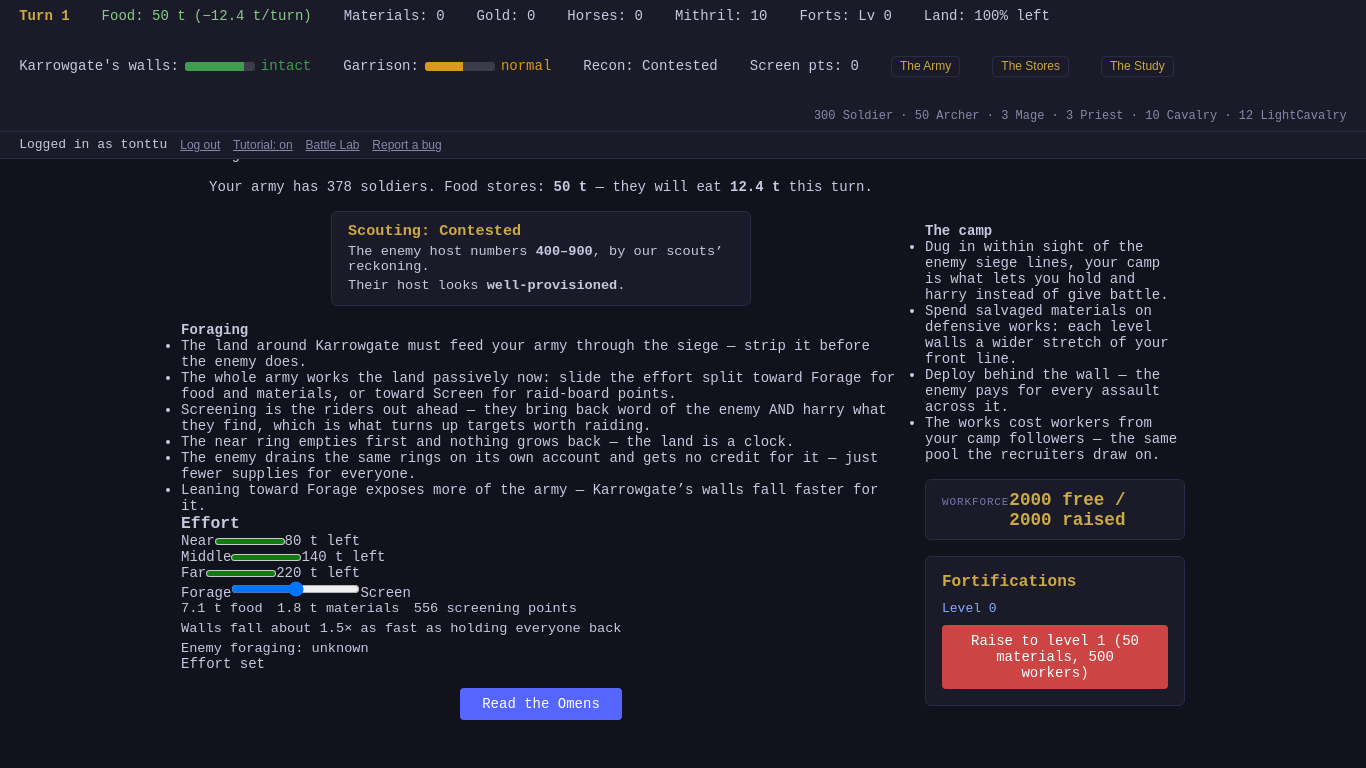
Test: the pitched-battle gate › a quiet day never offers a battle: Recruiting ends the turn outright
(page scrolled)
Click the button with test id "to-omens": (541, 704) [460,688,622,720]
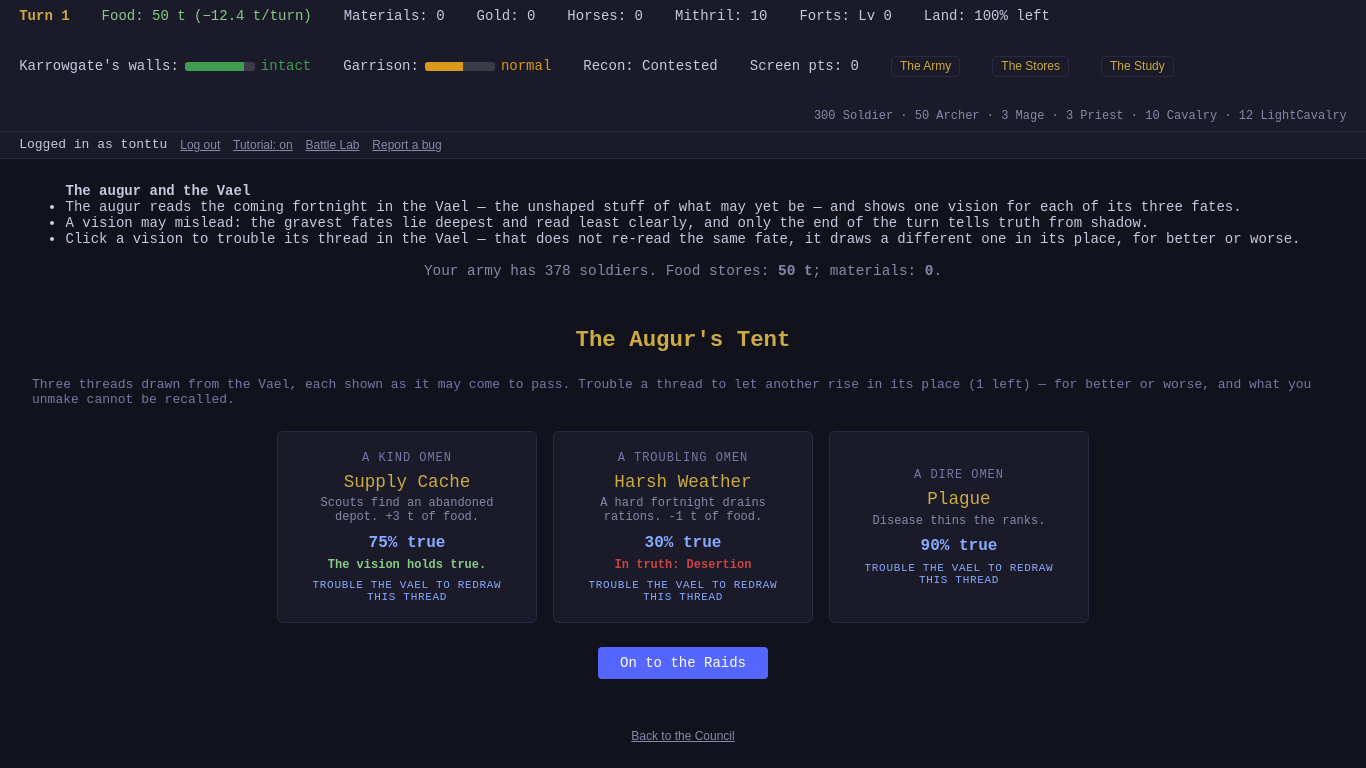
Click the button with test id "augury-continue": (683, 663) [598,647,768,679]
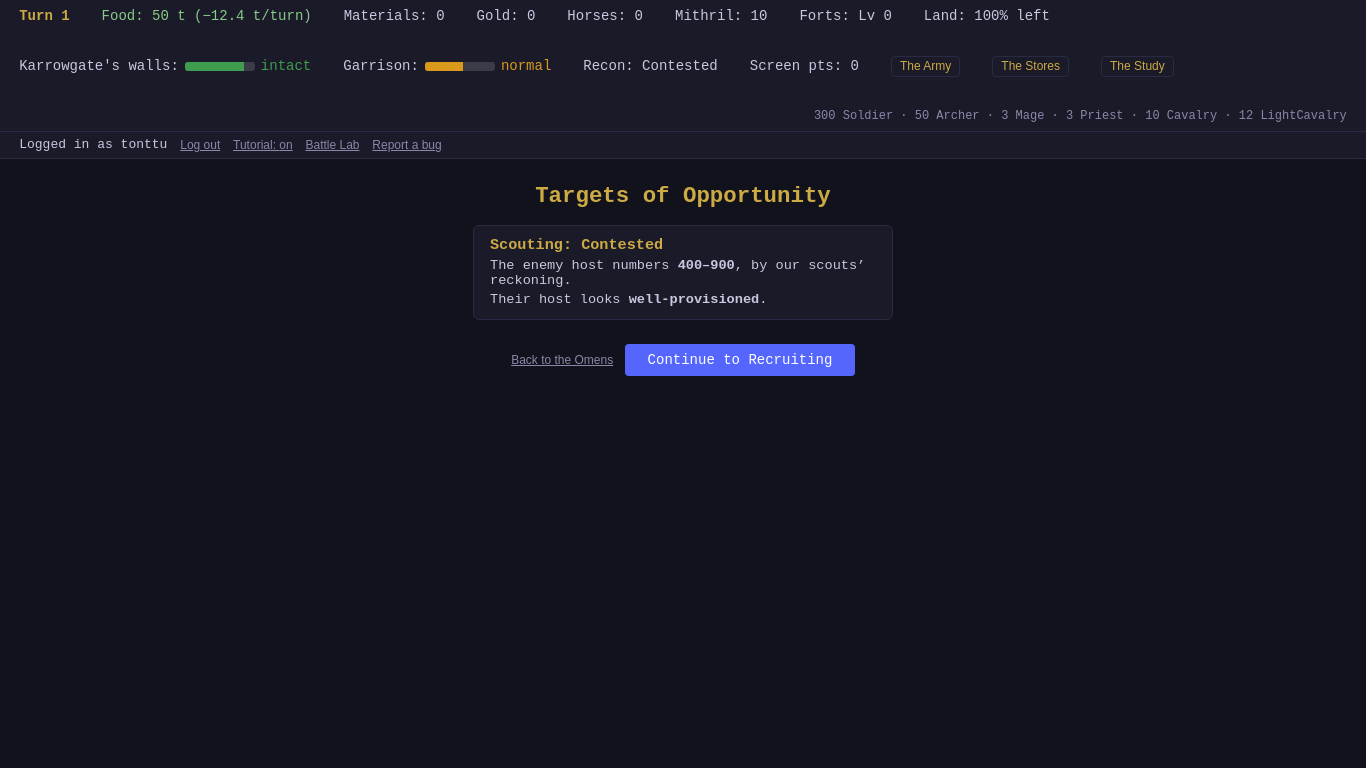
Check: the heading "Targets of Opportunity" is shown, box [535,183,831,209]
Click the button with test id "to-recruit": (740, 360) [625,344,855,376]
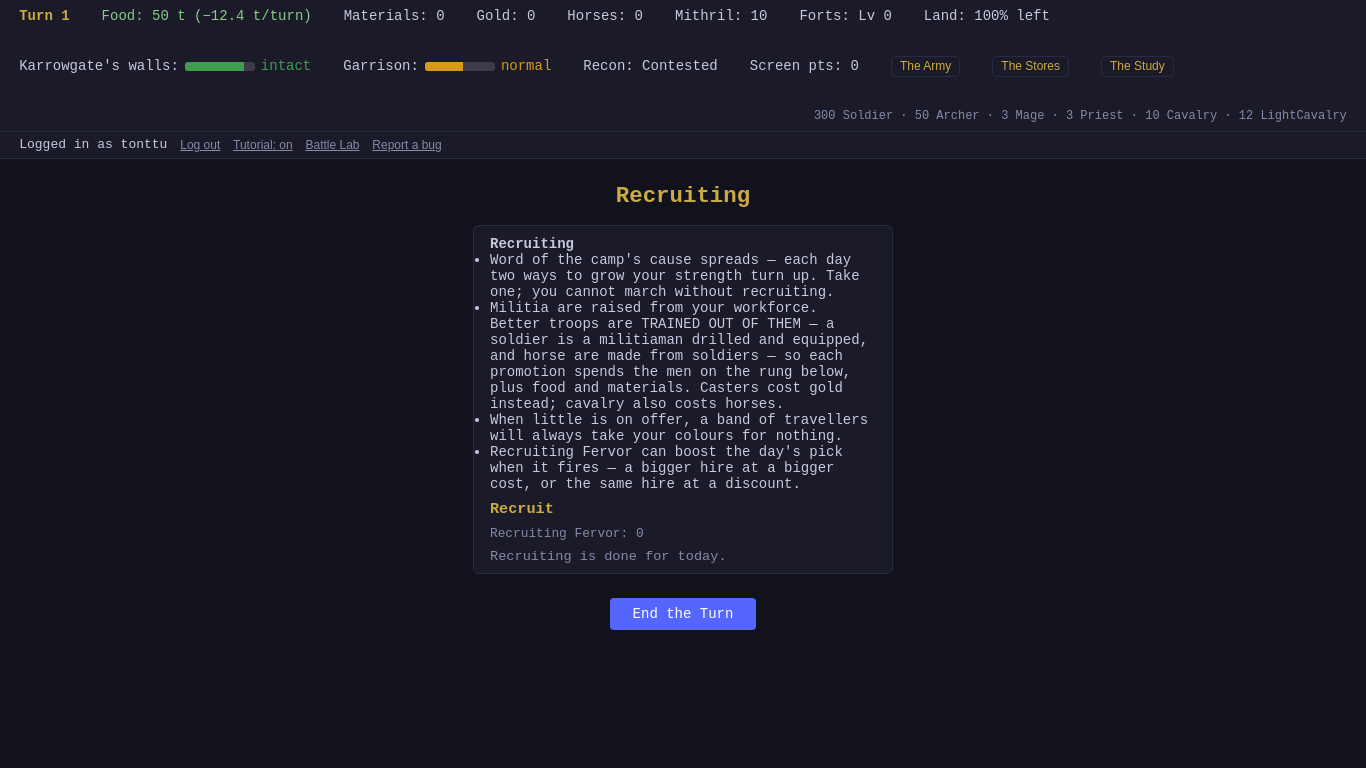
Check: the button with test id "to-deploy" is shown
Check: the button with test id "to-deploy" reads "End the Turn"
Click the button with test id "to-deploy": (683, 614) [610,598,756,630]
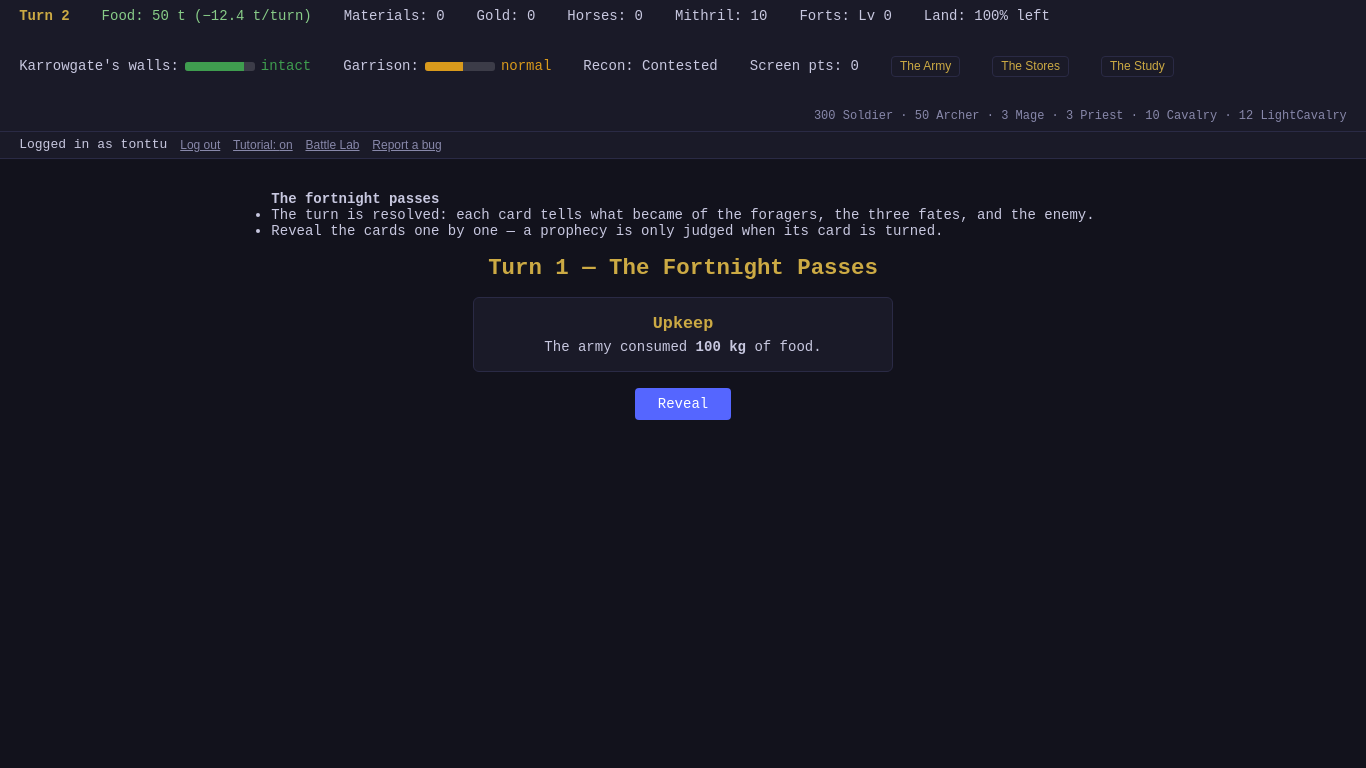
Check: the element with test id "day-report" is shown, box [271,191,1095,420]
